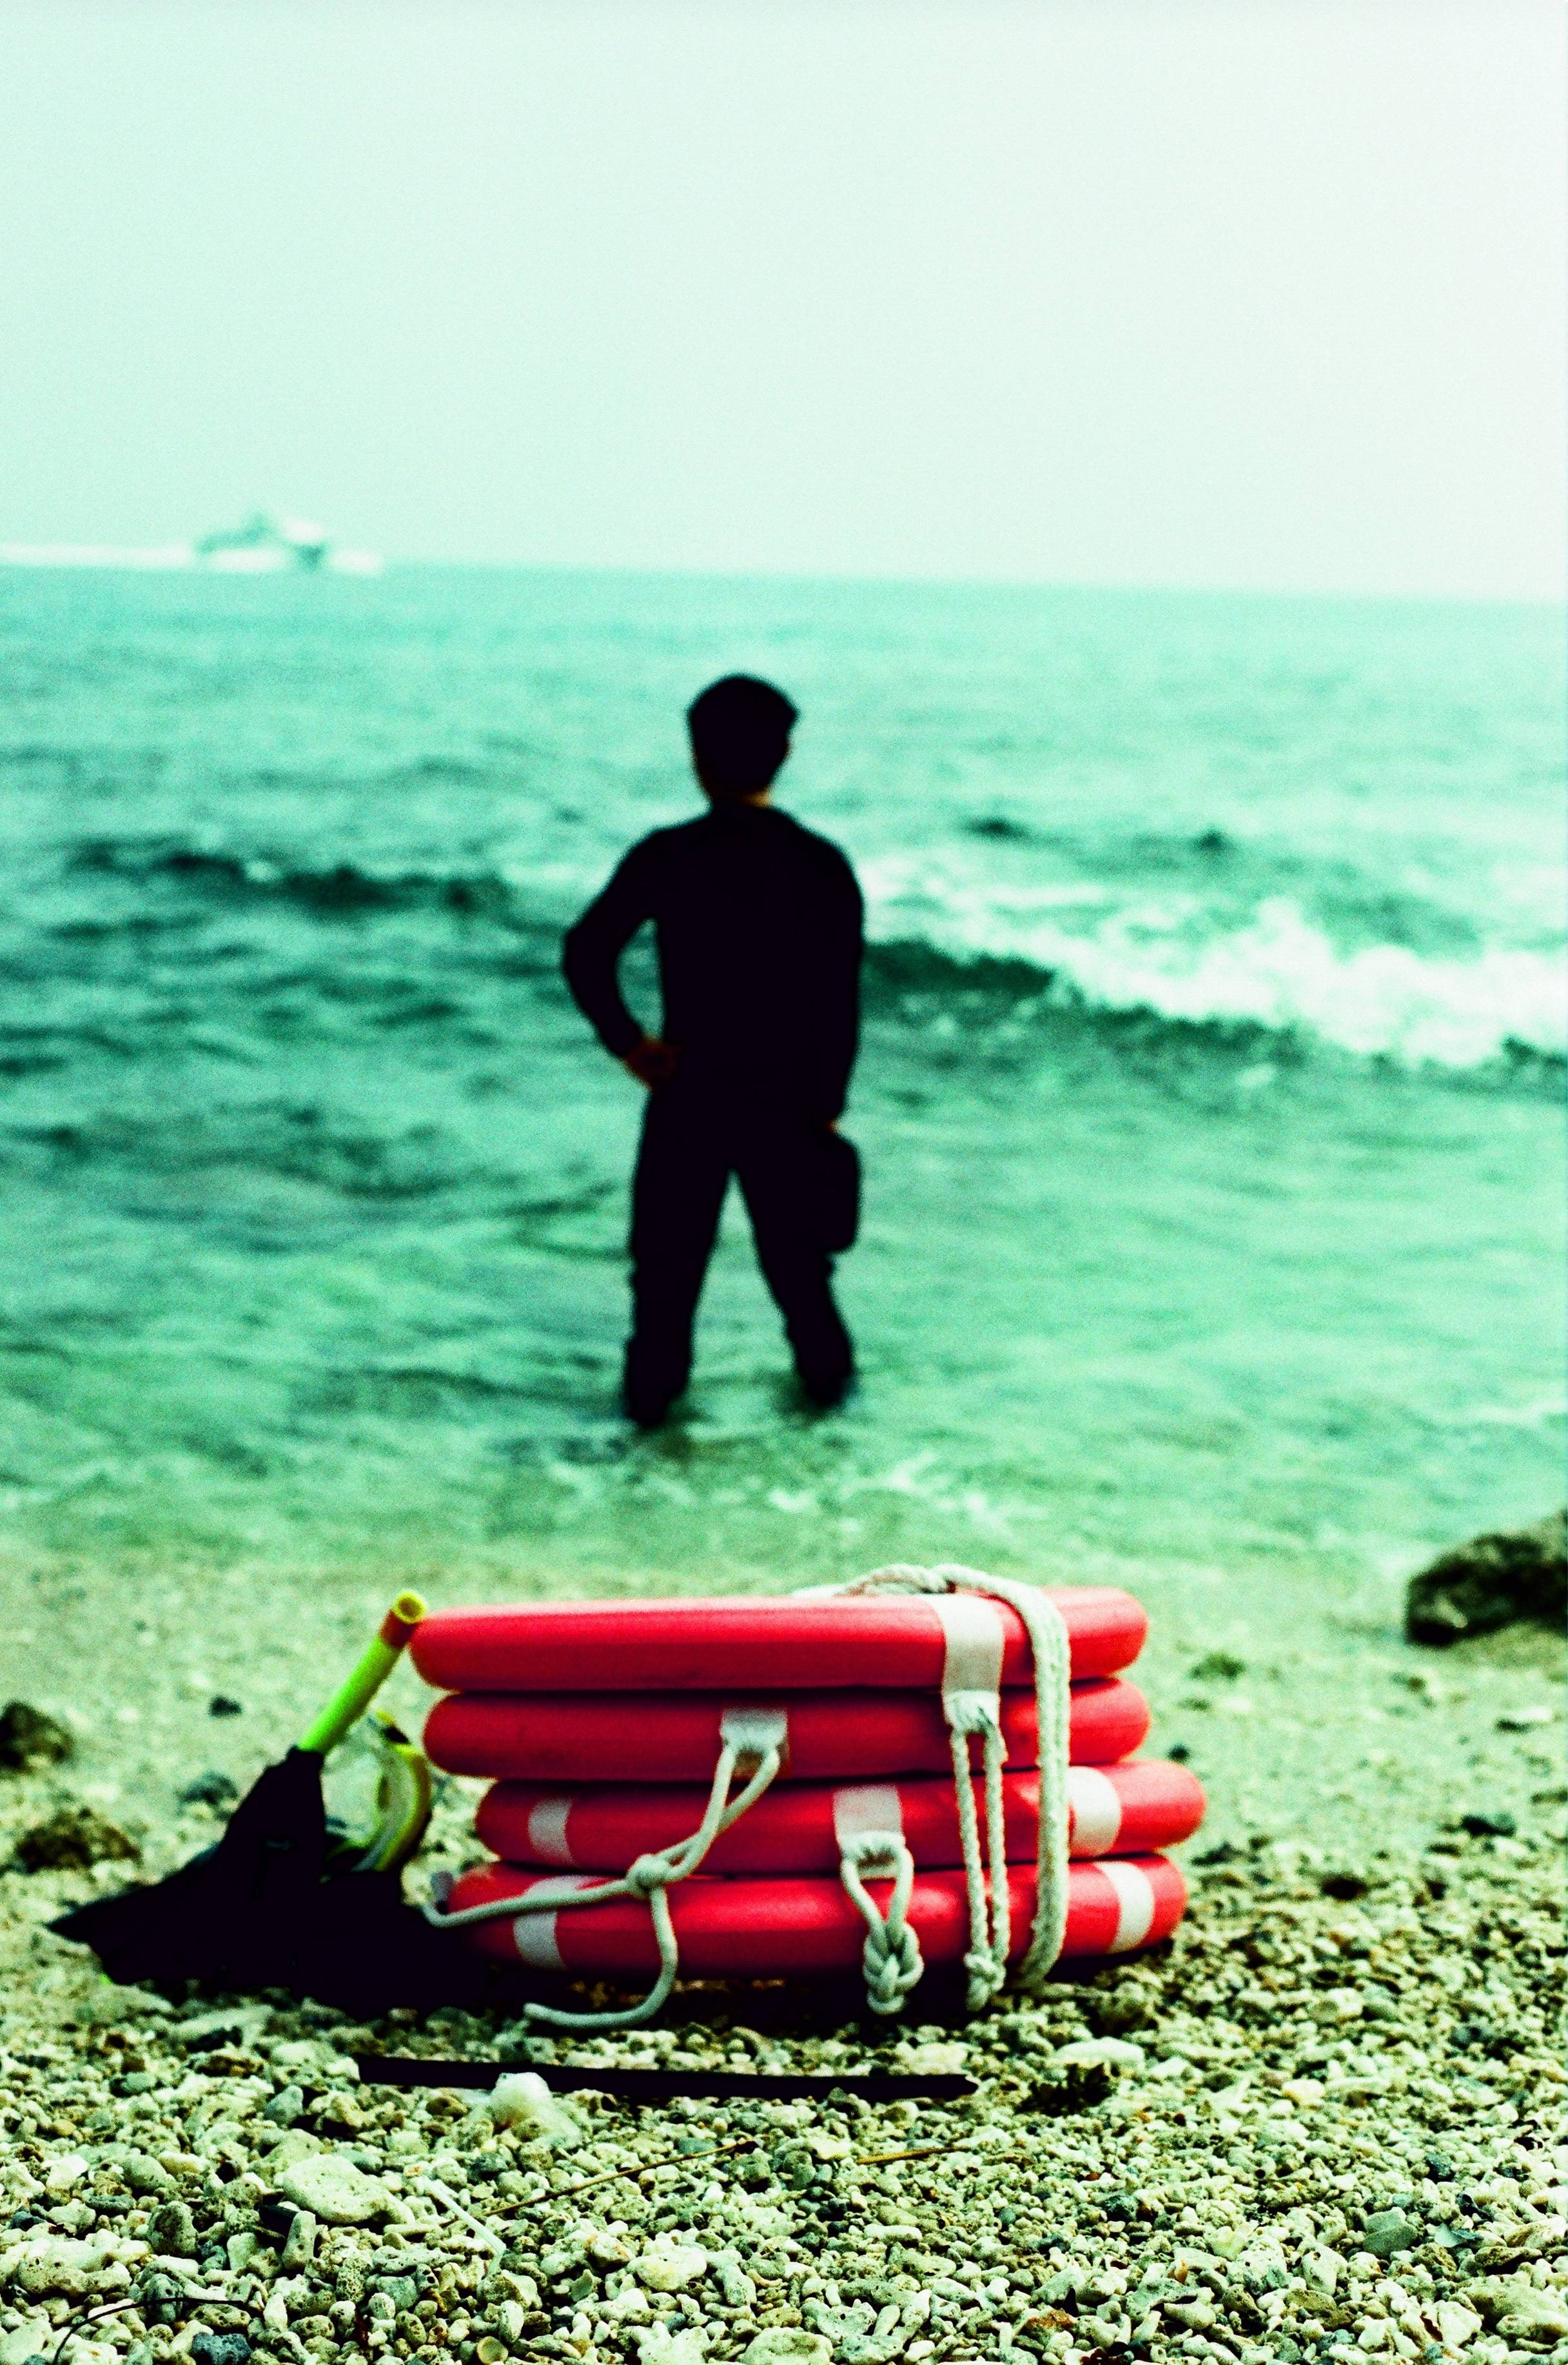Humano: (560, 667, 913, 1438)
